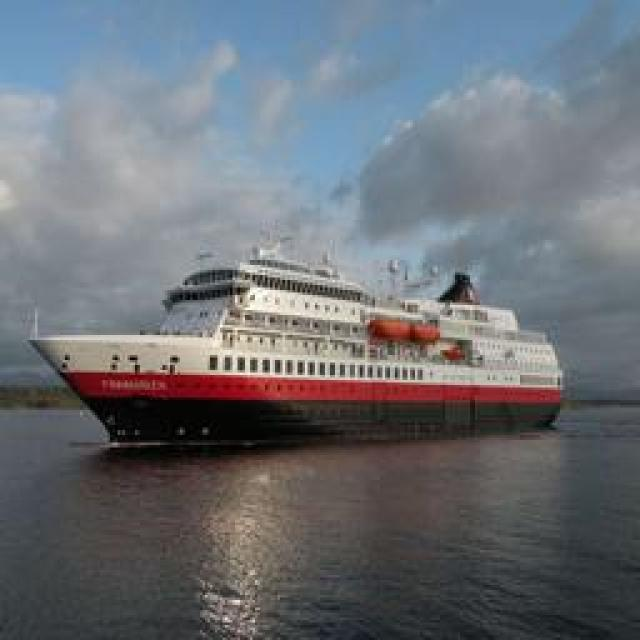CIV_Ship: (29, 248, 566, 442)
